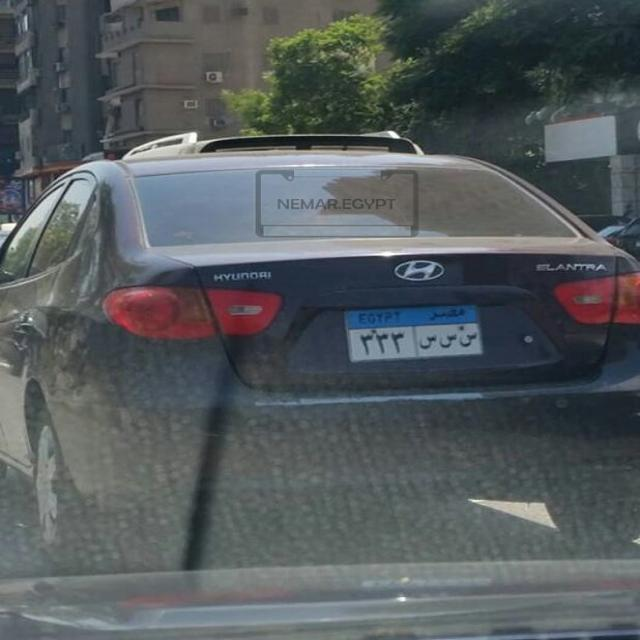License Plate: (337, 300, 493, 367)
